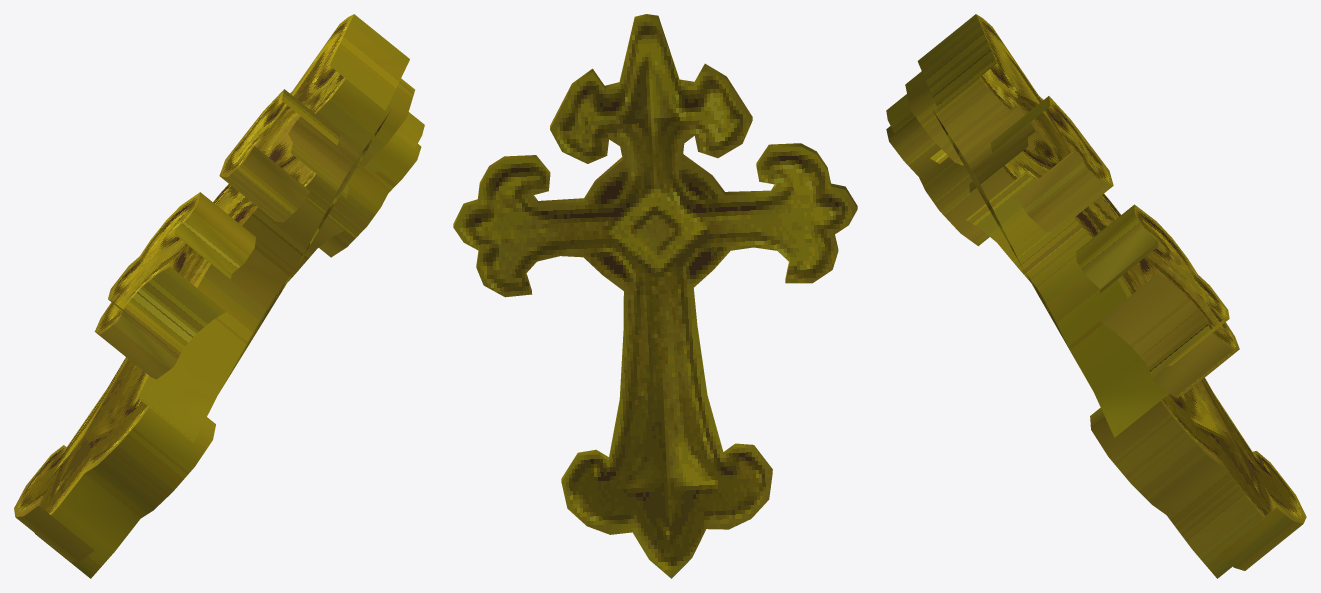
The model's file is ps2_save-icons_makaitenshou.glb.
3 renders of one model, left to right at view 1: azimuth 30°, elevation 25°; view 2: azimuth 150°, elevation 25°; view 3: azimuth 270°, elevation 25°, orthographic. The views are drawn at different scales.
Visible parts, largest first — view 1: mcard.ico; view 2: mcard.ico; view 3: mcard.ico.
Part boxes in pixels (x1=…): mcard.ico: x1=14, y1=14, x2=424, y2=578; mcard.ico: x1=453, y1=14, x2=857, y2=578; mcard.ico: x1=886, y1=14, x2=1306, y2=578.
Size of the model in its own units: 3.25 by 4.57 by 2.75.
Materials: 1 (1 with a texture image).
